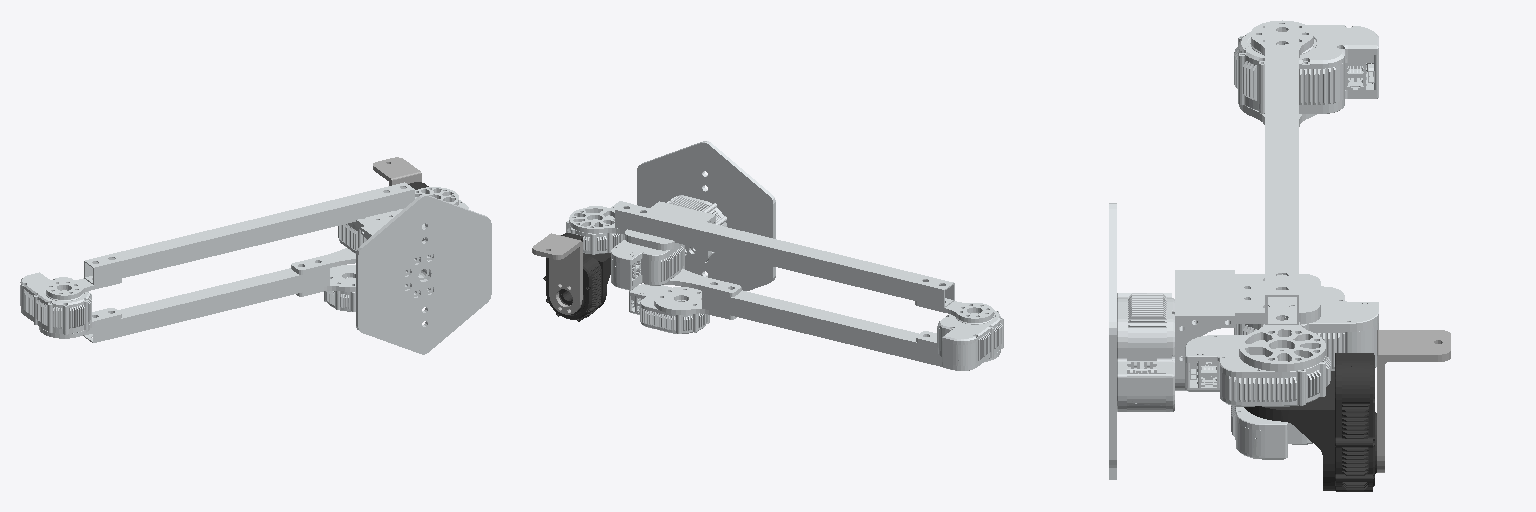
The robot description file, URDF, robot "vanderbot":
<?xml version="1.0" encoding="utf-8"?>
<!-- This URDF was automatically created by SolidWorks to URDF Exporter! Originally created by [author] ([email redacted]) 
     Commit Version: 1.5.1-0-g916b5db  Build Version: 1.5.7152.31018
     For more information, please see http://wiki.ros.org/sw_urdf_exporter -->
<robot
  name="vanderbot">
  <link
    name="base_link">
    <inertial>
      <origin
        xyz="0.0042869 0.010394 -0.00046682"
        rpy="0 0 0" />
      <mass
        value="0.80794" />
      <inertia
        ixx="0.0017182"
        ixy="3.2535E-07"
        ixz="6.6866E-06"
        iyy="0.0034685"
        iyz="8.0182E-08"
        izz="0.0017776" />
    </inertial>
    <visual>
      <origin
        xyz="0 0 0"
        rpy="0 0 0" />
      <geometry>
        <mesh
          filename="package://vanderbot/meshes/base_link.STL" />
      </geometry>
      <material
        name="">
        <color
          rgba="0.89804 0.91765 0.92941 1" />
      </material>
    </visual>
    <collision>
      <origin
        xyz="0 0 0"
        rpy="0 0 0" />
      <geometry>
        <mesh
          filename="package://vanderbot/meshes/base_link.STL" />
      </geometry>
    </collision>
  </link>
  <link
    name="link_1">
    <inertial>
      <origin
        xyz="-0.00070352 -0.061274 0.017423"
        rpy="0 0 0" />
      <mass
        value="0.5361" />
      <inertia
        ixx="0.00032702"
        ixy="-6.6866E-06"
        ixz="-8.0182E-08"
        iyy="0.00025426"
        iyz="2.3847E-06"
        izz="0.00045888" />
    </inertial>
    <visual>
      <origin
        xyz="0 0 0"
        rpy="0 0 0" />
      <geometry>
        <mesh
          filename="package://vanderbot/meshes/link_1.STL" />
      </geometry>
      <material
        name="">
        <color
          rgba="0.89804 0.91765 0.92941 1" />
      </material>
    </visual>
    <collision>
      <origin
        xyz="0 0 0"
        rpy="0 0 0" />
      <geometry>
        <mesh
          filename="package://vanderbot/meshes/link_1.STL" />
      </geometry>
    </collision>
  </link>
  <joint
    name="base"
    type="continuous">
    <origin
      xyz="0 0.050345 0"
      rpy="0 0 3.1416" />
    <parent
      link="base_link" />
    <child
      link="link_1" />
    <axis
      xyz="0 -1 0" />
  </joint>
  <link
    name="link_2">
    <inertial>
      <origin
        xyz="0.23768 -0.0037506 -0.012429"
        rpy="0 0 0" />
      <mass
        value="0.74175" />
      <inertia
        ixx="0.00026132"
        ixy="1.0362E-05"
        ixz="-1.316E-07"
        iyy="0.0019116"
        iyz="-1.7517E-07"
        izz="0.0021139" />
    </inertial>
    <visual>
      <origin
        xyz="0 0 0"
        rpy="0 0 0" />
      <geometry>
        <mesh
          filename="package://vanderbot/meshes/link_2.STL" />
      </geometry>
      <material
        name="">
        <color
          rgba="0.89804 0.91765 0.92941 1" />
      </material>
    </visual>
    <collision>
      <origin
        xyz="0 0 0"
        rpy="0 0 0" />
      <geometry>
        <mesh
          filename="package://vanderbot/meshes/link_2.STL" />
      </geometry>
    </collision>
  </link>
  <joint
    name="shoulder"
    type="continuous">
    <origin
      xyz="0 -0.08053 -0.013525"
      rpy="0 0 0" />
    <parent
      link="link_1" />
    <child
      link="link_2" />
    <axis
      xyz="0 0 -1" />
  </joint>
  <link
    name="link_3">
    <inertial>
      <origin
        xyz="0.0035901 -0.0052836 -0.37788"
        rpy="0 0 0" />
      <mass
        value="0.44825" />
      <inertia
        ixx="0.0039577"
        ixy="-5.1426E-08"
        ixz="7.3709E-08"
        iyy="0.0038647"
        iyz="5.1281E-06"
        izz="0.00013762" />
    </inertial>
    <visual>
      <origin
        xyz="0 0 0"
        rpy="0 0 0" />
      <geometry>
        <mesh
          filename="package://vanderbot/meshes/link_3.STL" />
      </geometry>
      <material
        name="">
        <color
          rgba="0.89804 0.91765 0.92941 1" />
      </material>
    </visual>
    <collision>
      <origin
        xyz="0 0 0"
        rpy="0 0 0" />
      <geometry>
        <mesh
          filename="package://vanderbot/meshes/link_3.STL" />
      </geometry>
    </collision>
  </link>
  <joint
    name="elbow"
    type="continuous">
    <origin
      xyz="0.4666 0 0.04505"
      rpy="3.1416 -1.5708 0" />
    <parent
      link="link_2" />
    <child
      link="link_3" />
    <axis
      xyz="1 0 0" />
  </joint>
  <link
    name="link_4">
    <inertial>
      <origin
        xyz="0.0011857 0.044307 -0.026463"
        rpy="0 0 0" />
      <mass
        value="0.23876" />
      <inertia
        ixx="0.0001498"
        ixy="-7.3709E-08"
        ixz="-4.5751E-06"
        iyy="0.00020652"
        iyz="1.7037E-05"
        izz="0.00011785" />
    </inertial>
    <visual>
      <origin
        xyz="0 0 0"
        rpy="0 0 0" />
      <geometry>
        <mesh
          filename="package://vanderbot/meshes/link_4.STL" />
      </geometry>
      <material
        name="">
        <color
          rgba="0.29804 0.29804 0.29804 1" />
      </material>
    </visual>
    <collision>
      <origin
        xyz="0 0 0"
        rpy="0 0 0" />
      <geometry>
        <mesh
          filename="package://vanderbot/meshes/link_4.STL" />
      </geometry>
    </collision>
  </link>
  <joint
    name="wrist"
    type="continuous">
    <origin
      xyz="-0.031045 0 -0.5556"
      rpy="0 1.5708 0" />
    <parent
      link="link_3" />
    <child
      link="link_4" />
    <axis
      xyz="0 0 1" />
  </joint>
  <link
    name="link_5">
    <inertial>
      <origin
        xyz="0.00040185 0.036541 -0.014765"
        rpy="0 0 0" />
      <mass
        value="0.079101" />
      <inertia
        ixx="3.215E-05"
        ixy="-5.5297E-08"
        ixz="-1.173E-10"
        iyy="2.1405E-05"
        iyz="6.7911E-07"
        izz="2.6463E-05" />
    </inertial>
    <visual>
      <origin
        xyz="0 0 0"
        rpy="0 0 0" />
      <geometry>
        <mesh
          filename="package://vanderbot/meshes/link_5.STL" />
      </geometry>
      <material
        name="">
        <color
          rgba="0.75294 0.75294 0.75294 1" />
      </material>
    </visual>
    <collision>
      <origin
        xyz="0 0 0"
        rpy="0 0 0" />
      <geometry>
        <mesh
          filename="package://vanderbot/meshes/link_5.STL" />
      </geometry>
    </collision>
  </link>
  <joint
    name="twist"
    type="continuous">
    <origin
      xyz="0 0.07105 -0.04353"
      rpy="0 0 0" />
    <parent
      link="link_4" />
    <child
      link="link_5" />
    <axis
      xyz="0 1 0" />
  </joint>
  <link
    name="link_6">
    <inertial>
      <origin
        xyz="-0.64244 0.072634 0.1515"
        rpy="0 0 0" />
      <mass
        value="62.759" />
      <inertia
        ixx="11.425"
        ixy="0.0060311"
        ixz="-0.003515"
        iyy="14.896"
        iyz="-0.0014531"
        izz="3.6364" />
    </inertial>
    <visual>
      <origin
        xyz="0 0 0"
        rpy="0 0 0" />
      <geometry>
        <mesh
          filename="package://vanderbot/meshes/link_6.STL" />
      </geometry>
      <material
        name="">
        <color
          rgba="1 1 1 1" />
      </material>
    </visual>
    <collision>
      <origin
        xyz="0 0 0"
        rpy="0 0 0" />
      <geometry>
        <mesh
          filename="package://vanderbot/meshes/link_6.STL" />
      </geometry>
    </collision>
  </link>
  <joint
    name="tip"
    type="fixed">
    <origin
      xyz="0 0.00455 -0.10875"
      rpy="0 0 0" />
    <parent
      link="link_5" />
    <child
      link="link_6" />
    <axis
      xyz="0 0 0" />
  </joint>
</robot>

--- Render facts (derived) ---
The picture shows the robot from 3 angles, left to right: view 1: azimuth 30°, elevation 25°; view 2: azimuth 150°, elevation 25°; view 3: azimuth 270°, elevation 25°; orthographic projection.
Model vanderbot with 7 links and 6 joints (5 continuous, 1 fixed), rooted at base_link, posed every joint at zero.
Visible links, largest first — view 1: base_link, link_2, link_3, link_1, link_5; view 2: link_2, link_3, base_link, link_1, link_5, link_4; view 3: link_3, link_1, link_2, base_link, link_4, link_5.
Boxes of the visible links, x1,y1,x2,y2 form: base_link: (356,194,491,354); link_2: (20,248,355,342); link_3: (46,182,468,299); link_1: (338,209,424,253); link_5: (373,157,421,185); link_2: (629,269,1003,370); link_3: (566,201,993,322); base_link: (637,141,775,290); link_1: (611,201,715,290); link_5: (532,233,582,314); link_4: (543,233,610,321); link_3: (1185,20,1330,406); link_1: (1175,270,1378,390); link_2: (1231,25,1378,459); base_link: (1109,203,1174,479); link_4: (1244,353,1376,491); link_5: (1377,330,1450,472).
Bounding box of the posed robot: 0.6286 × 0.2583 × 0.2278 m (x, y, z).
Meshes: 7 distinct files referenced, 6 mesh visuals loaded (6 binary STL); not drawn: 1 (file found but could not be loaded).
